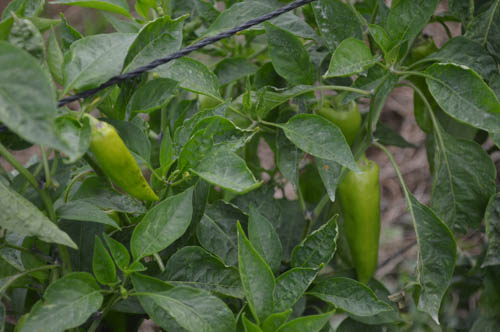ChiliPepper: (337, 162, 383, 285), (90, 122, 158, 205)
